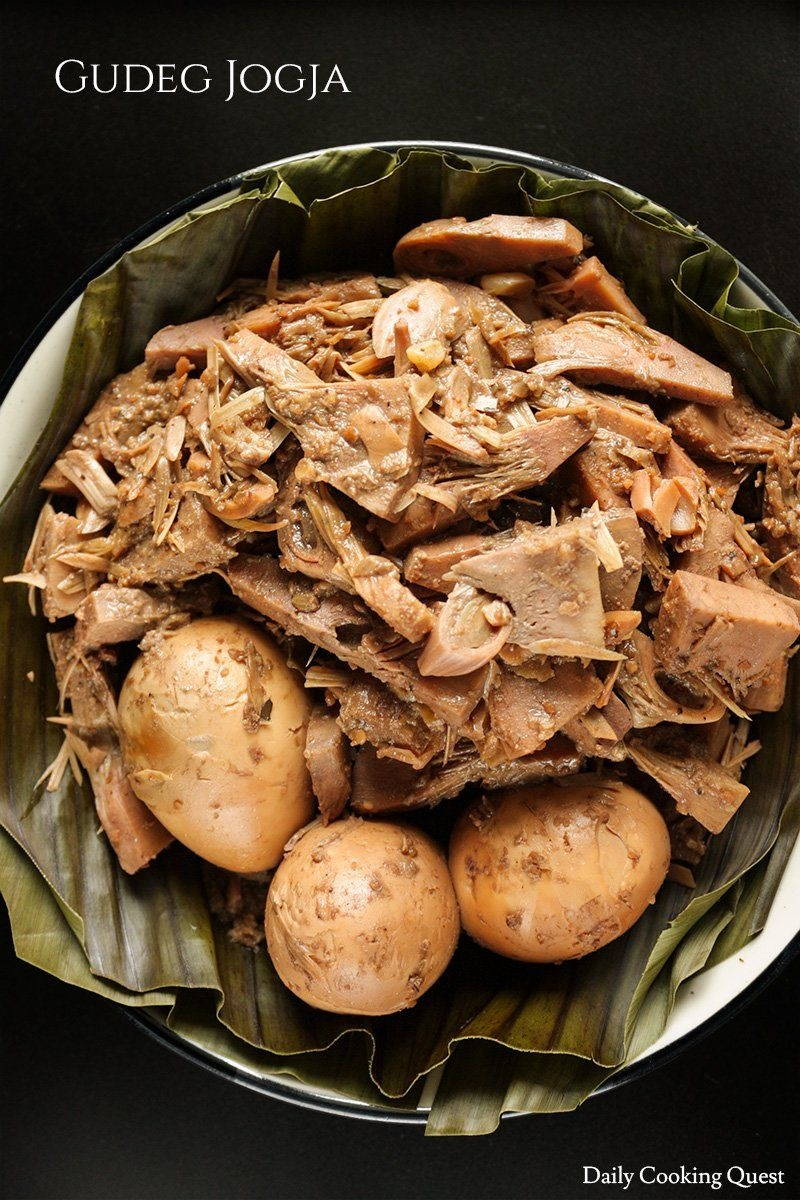gudeg: (89, 195, 800, 1006)
